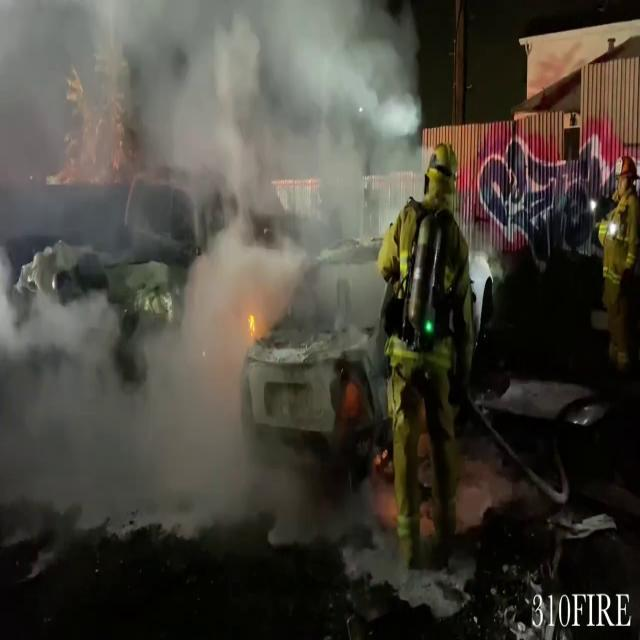Smoke: (0, 0, 411, 542)
